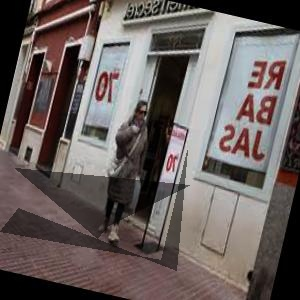women_secret: (99, 12, 292, 15)
